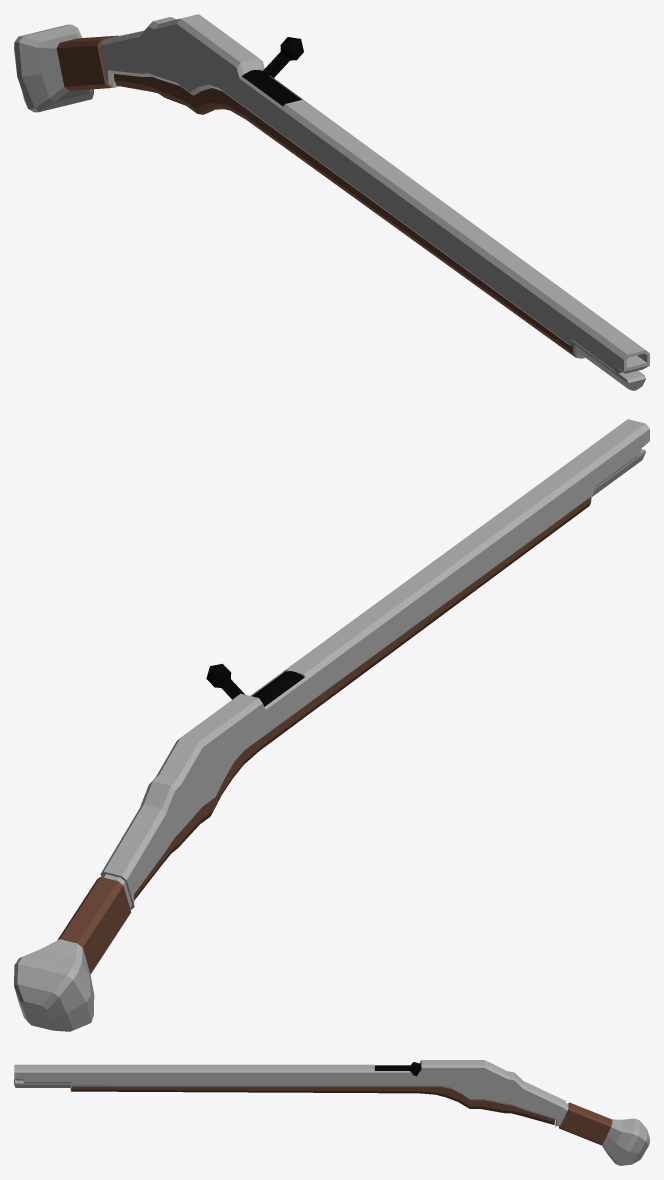
The model's file is boltaction_rifle.fbx.
3 renders of one model, top to bottom at view 1: azimuth 30°, elevation 25°; view 2: azimuth 150°, elevation 25°; view 3: azimuth 270°, elevation 25°, orthographic. The views are drawn at different scales.
Visible parts, largest first — view 1: gun, Icosphere, Icosphere.001; view 2: gun; view 3: gun, Icosphere.
Boxes of the visible parts, x1,y1,x2,y2 form: gun: [14, 14, 649, 390]; Icosphere: [242, 70, 300, 106]; Icosphere.001: [262, 37, 303, 77]; gun: [14, 419, 649, 1031]; gun: [14, 1060, 649, 1165]; Icosphere: [375, 1065, 410, 1070].
Bounding box in the file's own units: 10.79 × 25.73 × 139.
